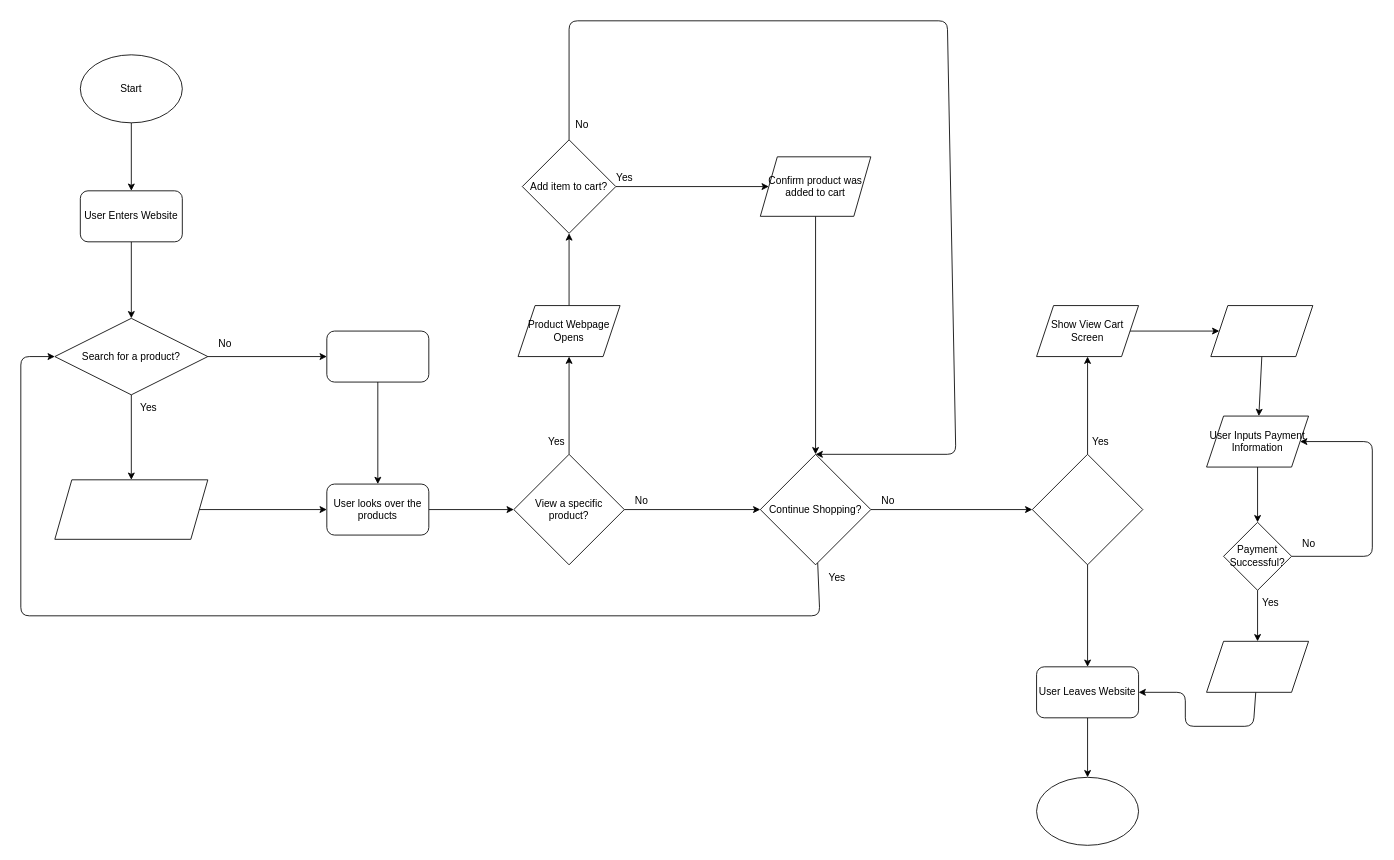
The diagram is 1394 pixels wide and 860 high, and some of its shapes have lost their labels. The centre of each missing label's shape, as x and y in pixels:
"Checkout?" goes at pixel 1087 509.
"End" goes at pixel 1087 810.
"Explore products on home page" goes at pixel 377 356.
"Show Order Confirmation Screen and Send Confirmation Email" goes at pixel 1257 666.
"Show View Payment Screen" goes at pixel 1261 331.
"User provides search input" goes at pixel 131 509.
